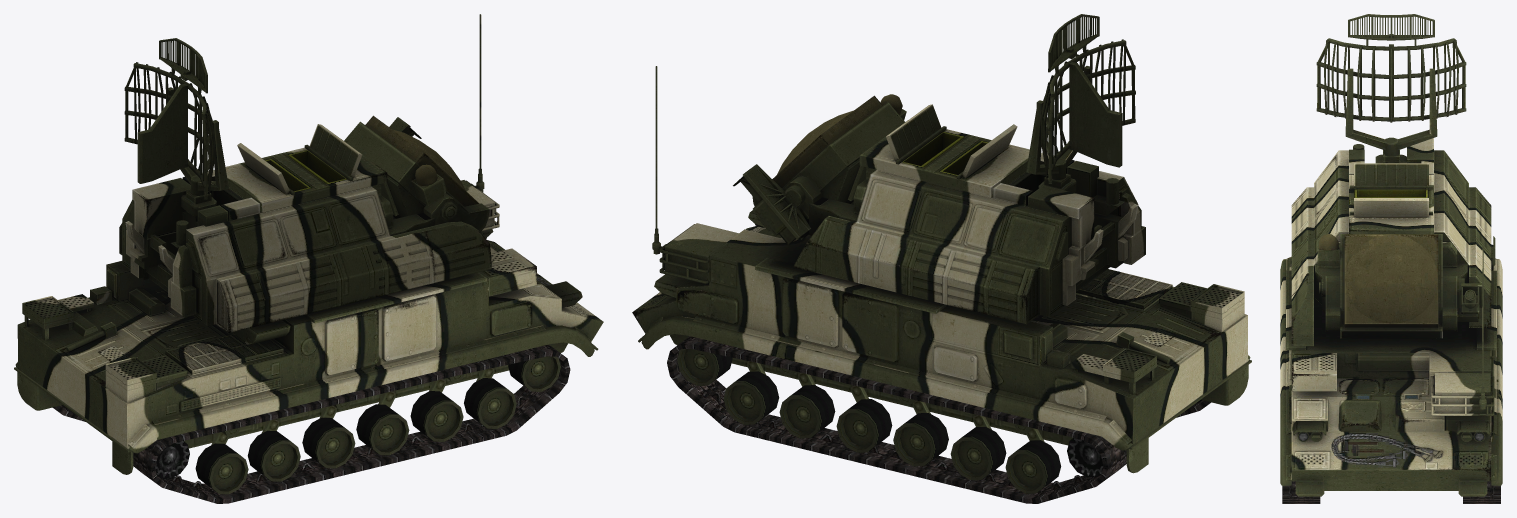
Rendered from 9k330-tor.glb.
3 views of the same model, side by side, from view 1: azimuth 30°, elevation 25°; view 2: azimuth 150°, elevation 25°; view 3: azimuth 270°, elevation 25° (orthographic). The views are drawn at different scales.
Parts seen in each view (by area): view 1: mesh_352_mat_62_0, mesh_353_mat_63_0; view 2: mesh_352_mat_62_0, mesh_353_mat_63_0; view 3: mesh_352_mat_62_0, mesh_353_mat_63_0.
Boxes of the visible parts, x1=… form: mesh_352_mat_62_0: x1=14, y1=14, x2=603, y2=494; mesh_353_mat_63_0: x1=52, y1=344, x2=570, y2=503; mesh_352_mat_62_0: x1=632, y1=14, x2=1251, y2=493; mesh_353_mat_63_0: x1=667, y1=336, x2=1211, y2=503; mesh_352_mat_62_0: x1=1280, y1=14, x2=1502, y2=496; mesh_353_mat_63_0: x1=1282, y1=481, x2=1500, y2=503.
Bounding box in the file's own units: 160 × 131 × 70.77.
Materials: 2 (2 with a texture image).
